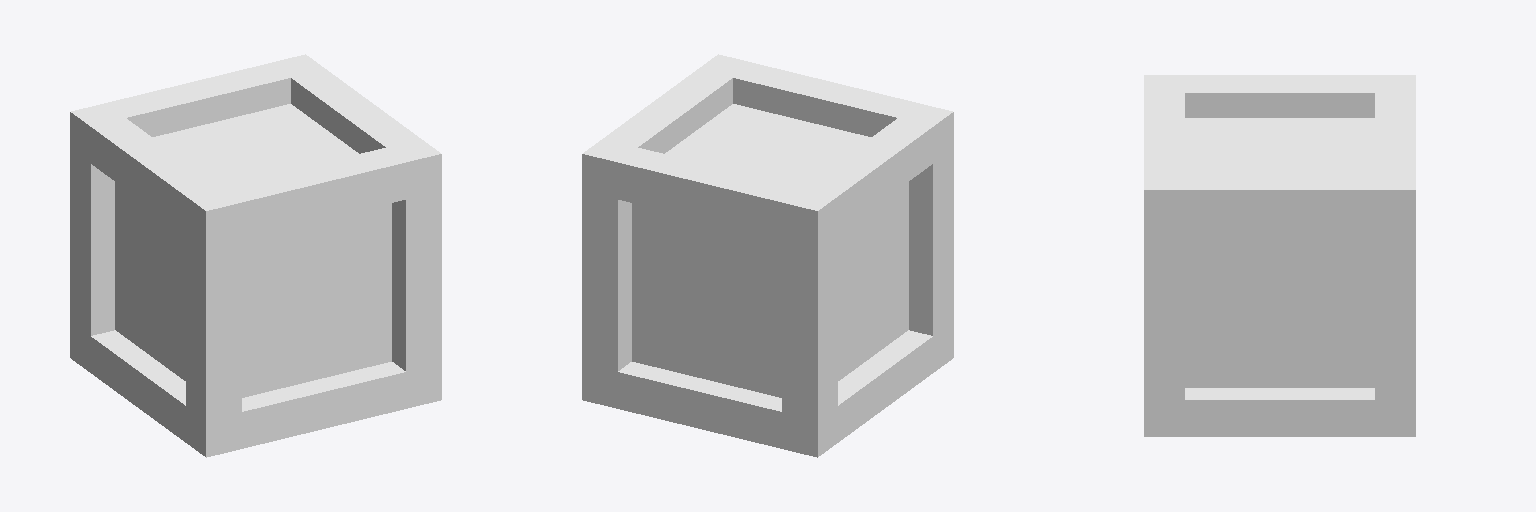
File: internal_part.obj
The picture shows the model from 3 angles: view 1: azimuth 30°, elevation 25°; view 2: azimuth 150°, elevation 25°; view 3: azimuth 270°, elevation 25°; orthographic projection.
Parts seen in each view (by area): view 1: Cube1; view 2: Cube1; view 3: Cube1.
Part boxes in pixels (bbox=[...]): Cube1: bbox=[70, 54, 441, 457]; Cube1: bbox=[582, 54, 953, 457]; Cube1: bbox=[1144, 75, 1415, 436].
Size of the model in its own units: 1 by 1 by 1.